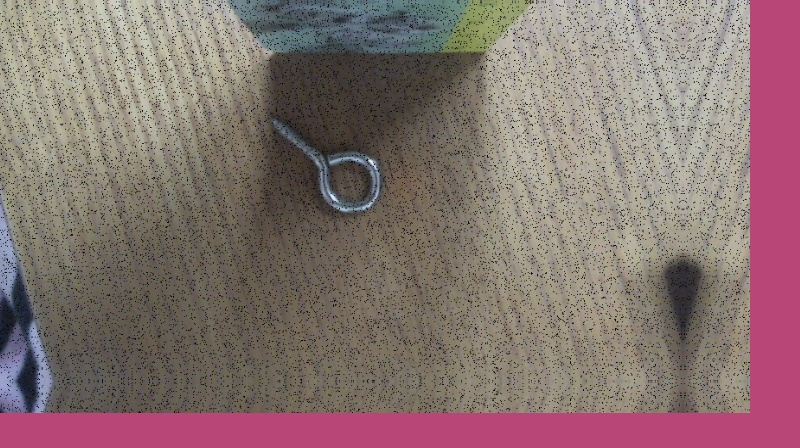O001: (268, 111, 386, 216)
